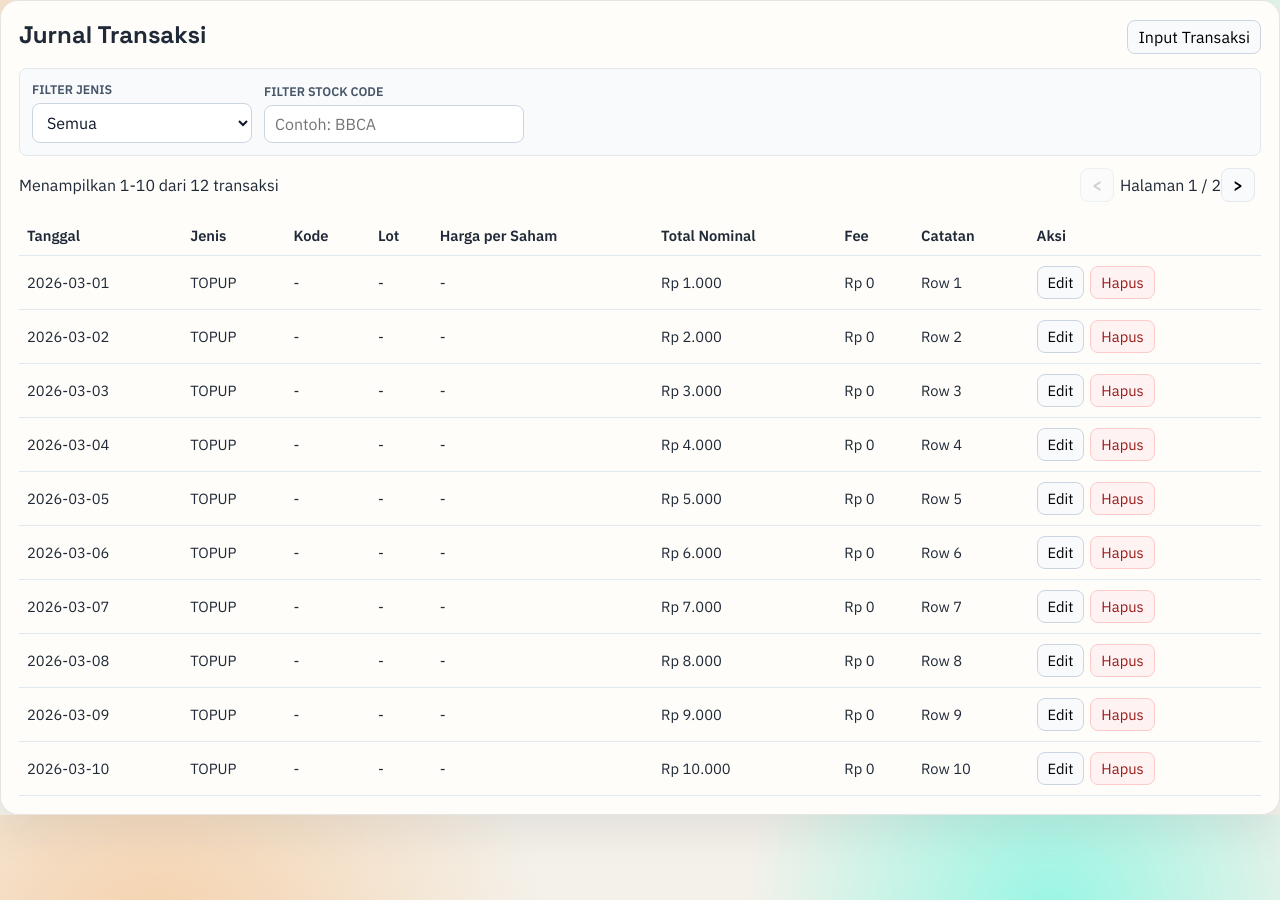
Test: JournalTable › paginates journal rows and navigates between pages
Expected: the text "Menampilkan 1-10 dari 12 transaksi" is shown, [19,175,279,195]
Expected: the text "Row 1" is shown, [913,256,1028,310]
Click the button named "Berikutnya".
click(1238, 185)  # box [1221,168,1255,202]
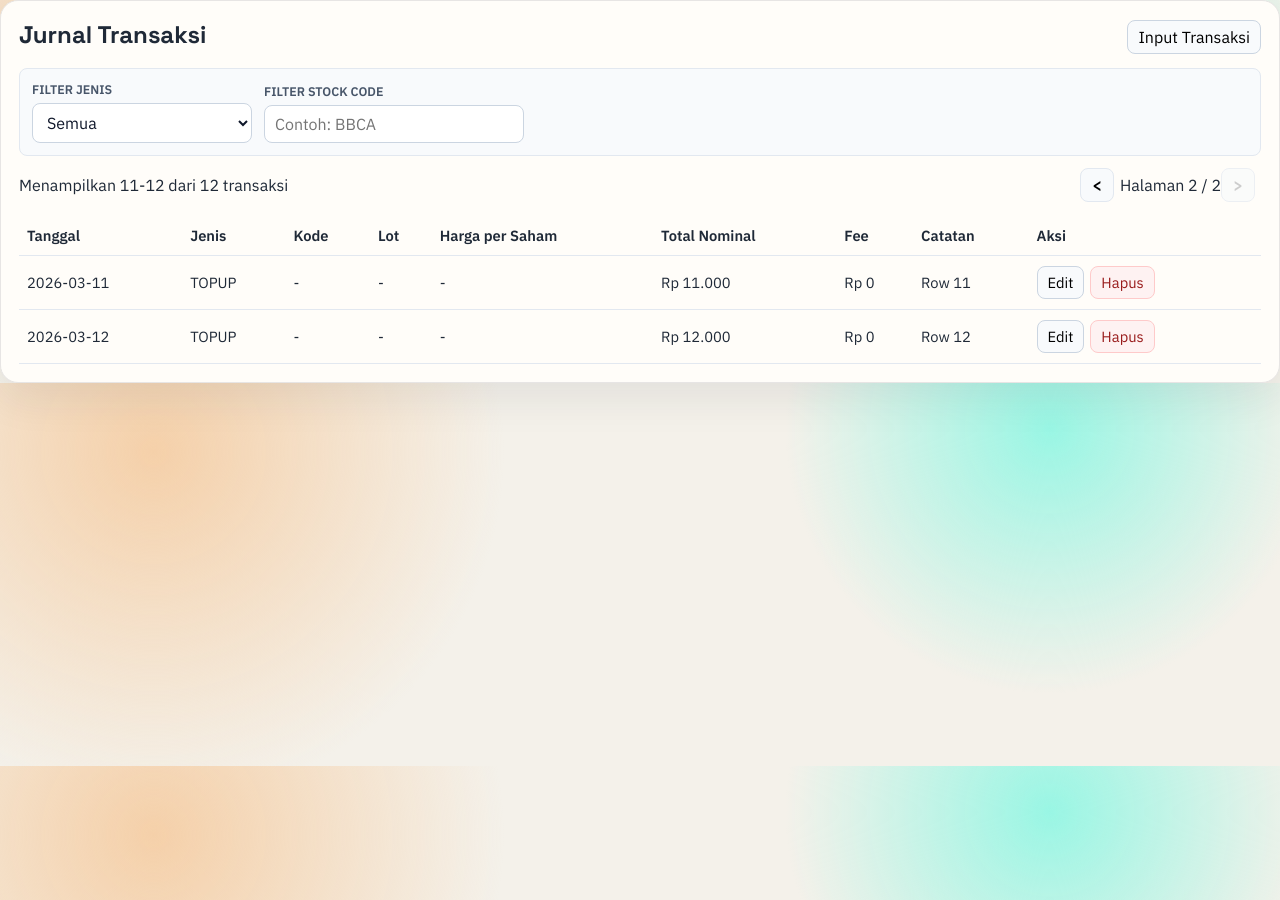
Expected: the text "Menampilkan 11-12 dari 12 transaksi" is shown, [19,175,288,195]
Expected: the text "Row 11" is shown, [913,256,1028,310]
